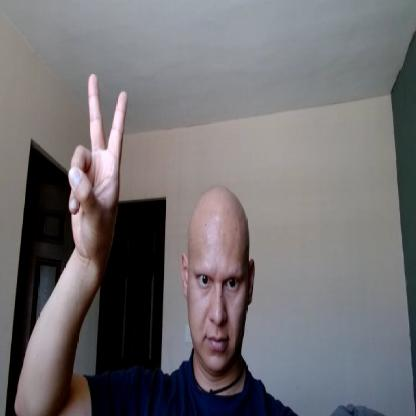V: (66, 72, 130, 261)
